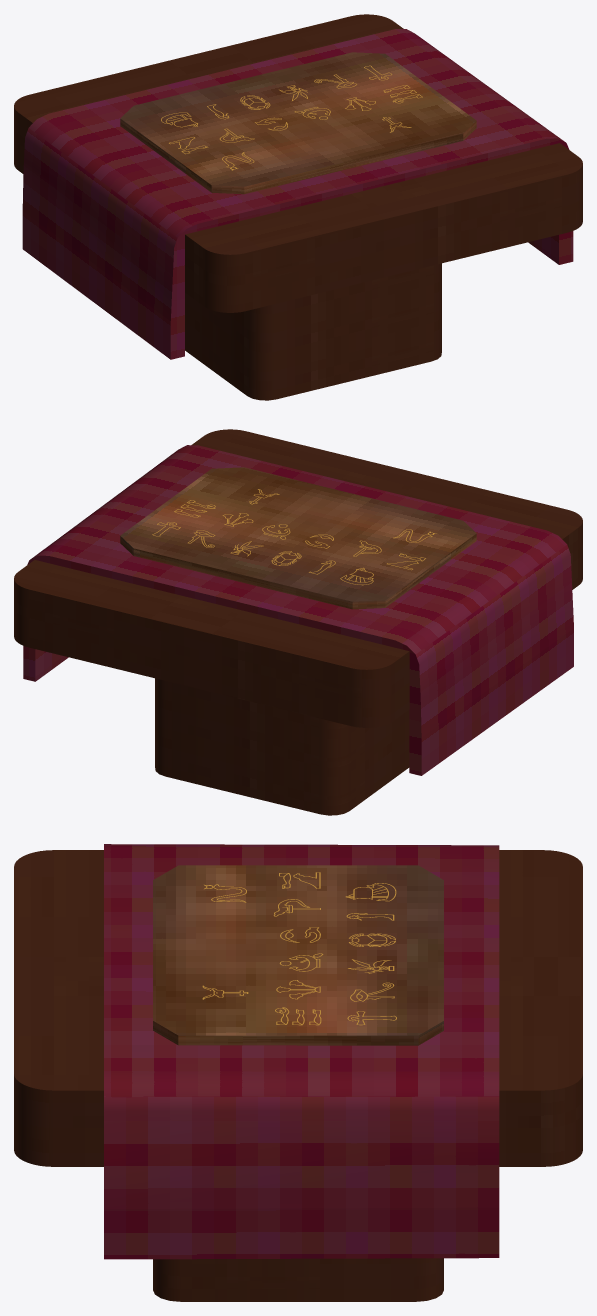
Rendered from ouija_table.glb.
3 renders of one model, top to bottom at view 1: azimuth 30°, elevation 25°; view 2: azimuth 150°, elevation 25°; view 3: azimuth 270°, elevation 25°, orthographic. The views are drawn at different scales.
Visible parts, largest first — view 1: table_ouija, tapis_table, Ouijaboard, Texte_ouija; view 2: table_ouija, tapis_table, Ouijaboard, Texte_ouija; view 3: tapis_table, table_ouija, Ouijaboard, Texte_ouija.
Boxes of the visible parts, left/top/right/bottom form: table_ouija: left=14, top=14, right=582, bottom=400; tapis_table: left=22, top=29, right=573, bottom=359; Ouijaboard: left=120, top=52, right=476, bottom=194; Texte_ouija: left=161, top=65, right=422, bottom=170; table_ouija: left=14, top=429, right=582, bottom=815; tapis_table: left=23, top=445, right=573, bottom=775; Ouijaboard: left=120, top=467, right=476, bottom=609; Texte_ouija: left=152, top=489, right=436, bottom=585; tapis_table: left=104, top=844, right=499, bottom=1259; table_ouija: left=14, top=850, right=582, bottom=1301; Ouijaboard: left=153, top=865, right=443, bottom=1045; Texte_ouija: left=202, top=872, right=396, bottom=1025.
Size of the model in its own units: 1.36 by 0.7113 by 1.27.
4 materials, 4 textured.
